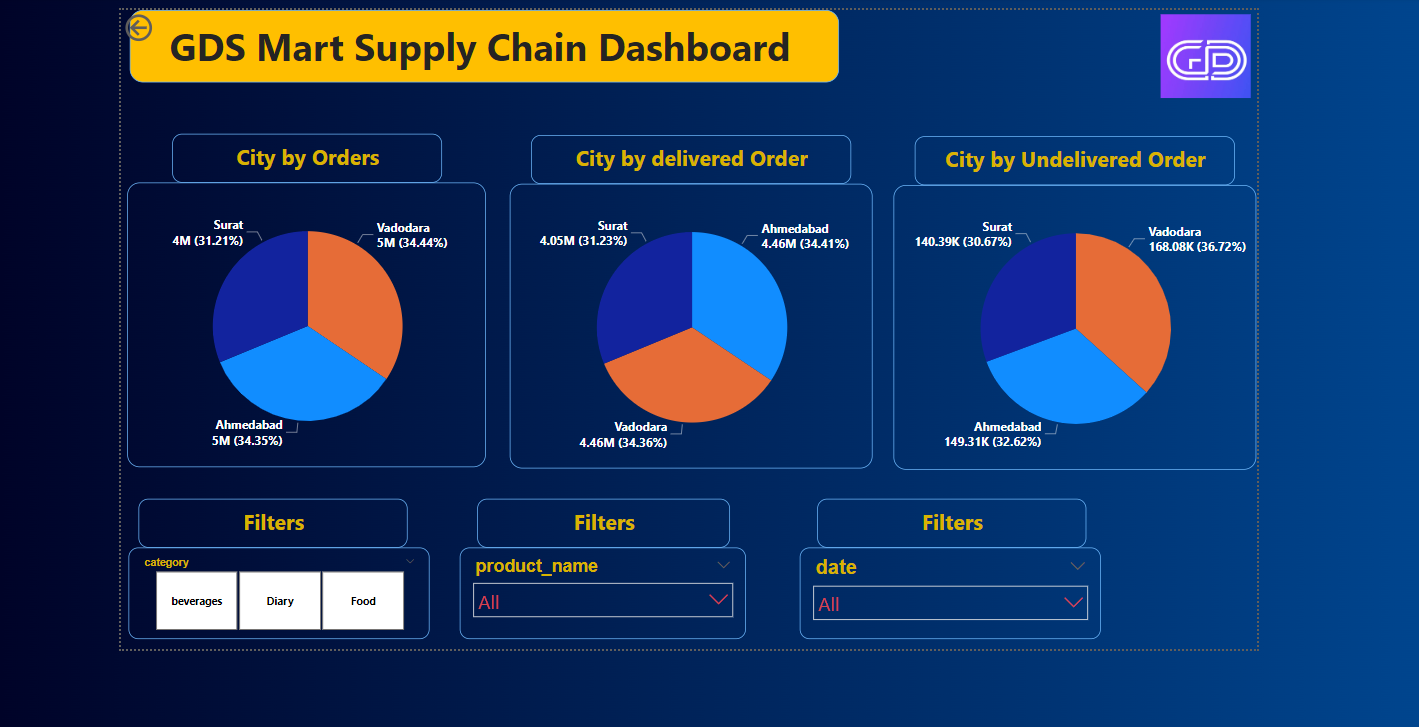

What the dashboard file says about the page in this screenshot:
{"tool":"powerbi","page":{"name":"Page 3","canvas":[1280,720],"ordinal":2},"visuals":[{"type":"textbox","box":[9.8,0,799.5,81.9],"z":0},{"type":"image","box":[1163.4,0,116.9,104.2],"z":1000},{"type":"textbox","box":[57.1,139.7,303.8,55.1],"z":2000},{"type":"pieChart","fields":{"Category":["dim_customers.city"],"Y":["All Measure.Total Order Quantity"]},"box":[6.6,194.4,404.2,321.1],"z":3000},{"type":"actionButton","box":[0,0,100,40],"z":4000},{"type":"pieChart","fields":{"Category":["dim_customers.city"],"Y":["All Measure.Total Delivery Quantity"]},"box":[438.2,195.5,408.5,321.1],"z":5000},{"type":"textbox","box":[462.1,140.6,360.6,54.9],"z":6000},{"type":"pieChart","fields":{"Category":["dim_customers.city"],"Y":["All Measure.Total Undeliverd Quantity"]},"box":[870.4,196.6,408.5,321.1],"z":7000},{"type":"textbox","box":[894.4,141.7,360.6,54.9],"z":8000},{"type":"slicer","fields":{"Values":["dim_products.category"]},"box":[8.5,605.6,339.4,102.8],"z":9000},{"type":"textbox","box":[19.7,550.7,302.8,54.9],"z":10000},{"type":"slicer","fields":{"Values":["dim_products.product_name"]},"box":[381.7,605.6,322.5,102.8],"z":11000},{"type":"textbox","box":[401.4,550.7,284.5,54.9],"z":12000},{"type":"slicer","fields":{"Values":["dim_date.date"]},"box":[764.8,605.6,339.4,102.8],"z":13000},{"type":"textbox","box":[784.5,550.7,302.8,54.9],"z":14000}]}

Visuals, with their boxes on the page's 1280x720 design canvas (x1, y1, x2, y2). These are canvas units, not pixel positions in the 1420x727 screenshot, which may show the page scaled, cropped or inside an application window:
textbox: region(10, 0, 809, 82)
image: region(1163, 0, 1280, 104)
textbox: region(57, 140, 361, 195)
pieChart - dim_customers.city x All Measure.Total Order Quantity: region(7, 194, 411, 516)
actionButton: region(0, 0, 100, 40)
pieChart - dim_customers.city x All Measure.Total Delivery Quantity: region(438, 196, 847, 517)
textbox: region(462, 141, 823, 196)
pieChart - dim_customers.city x All Measure.Total Undeliverd Quantity: region(870, 197, 1279, 518)
textbox: region(894, 142, 1255, 197)
slicer - dim_products.category: region(8, 606, 348, 708)
textbox: region(20, 551, 322, 606)
slicer - dim_products.product_name: region(382, 606, 704, 708)
textbox: region(401, 551, 686, 606)
slicer - dim_date.date: region(765, 606, 1104, 708)
textbox: region(784, 551, 1087, 606)
